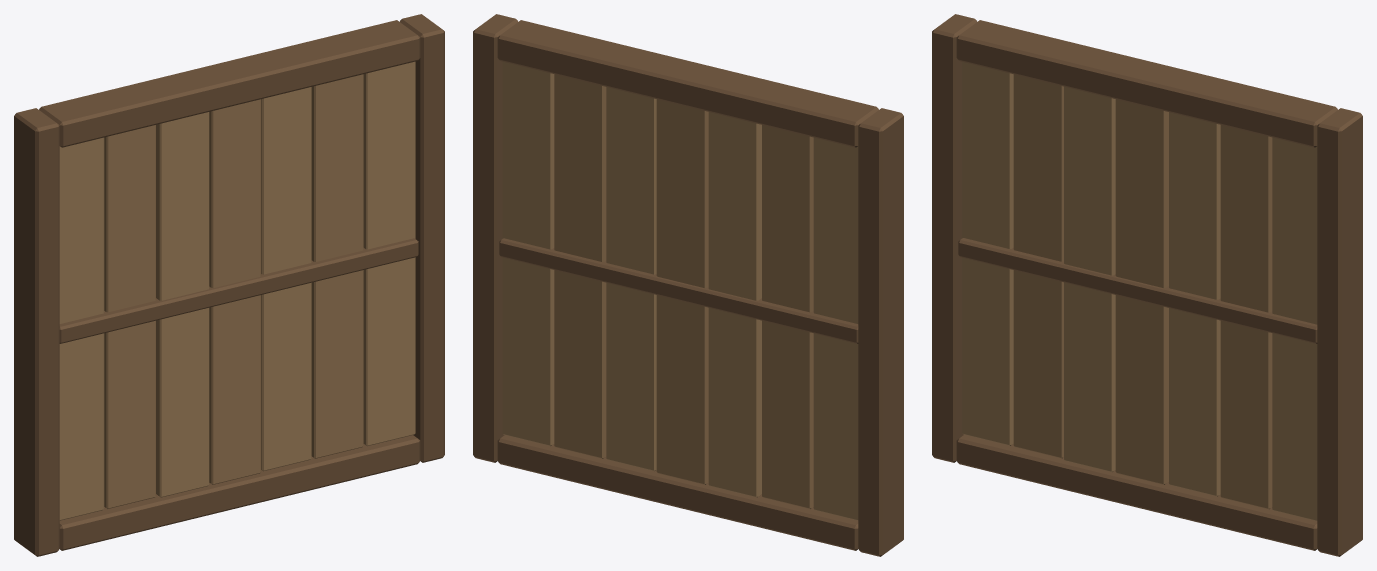
Rendered from wood_wall.glb.
3 renders of one model, left to right at view 1: azimuth 30°, elevation 25°; view 2: azimuth 150°, elevation 25°; view 3: azimuth 330°, elevation 25°, orthographic.
Visible parts, largest first — view 1: wood_wall; view 2: wood_wall; view 3: wood_wall.
Boxes of the visible parts, x1,y1,x2,y2 form: wood_wall: (14, 14, 444, 556); wood_wall: (473, 14, 903, 556); wood_wall: (932, 14, 1362, 556).
Bounding box in the file's own units: 2 × 2 × 0.2.
